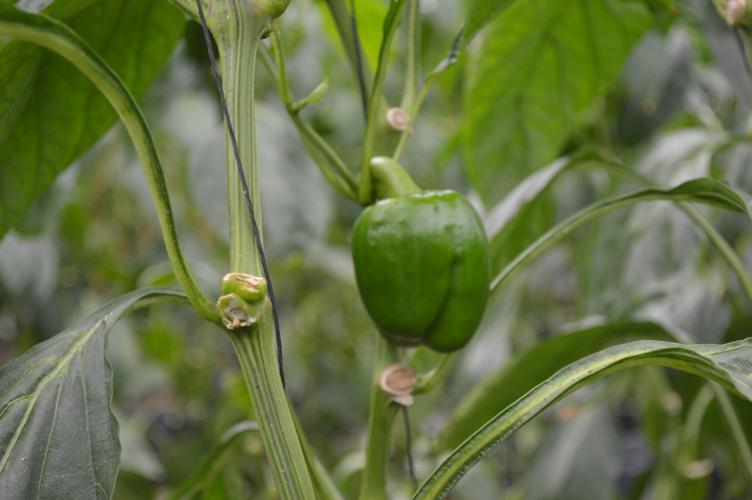BellPepper: (350, 182, 500, 350)
